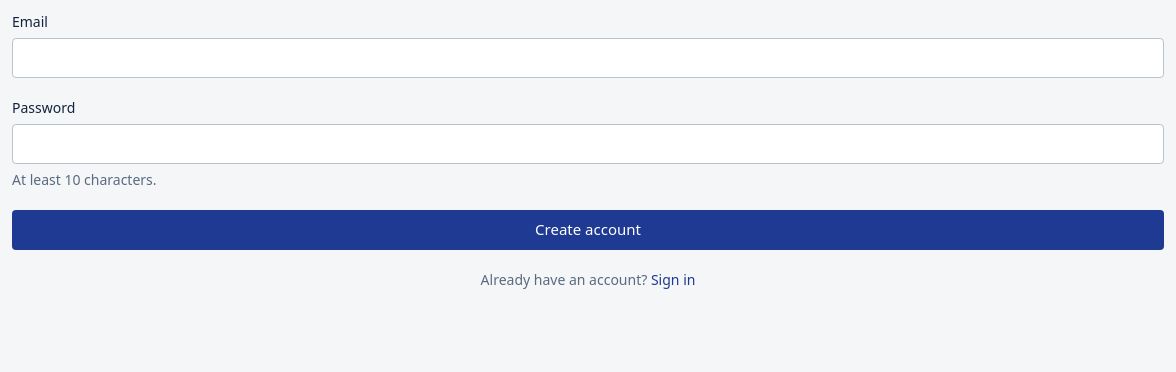
Scenario: AuthForm (register) › explains when the email is already registered
Type "ana@example.com" into the field labelled "Email" at [588, 58], box [12,38,1164,78]
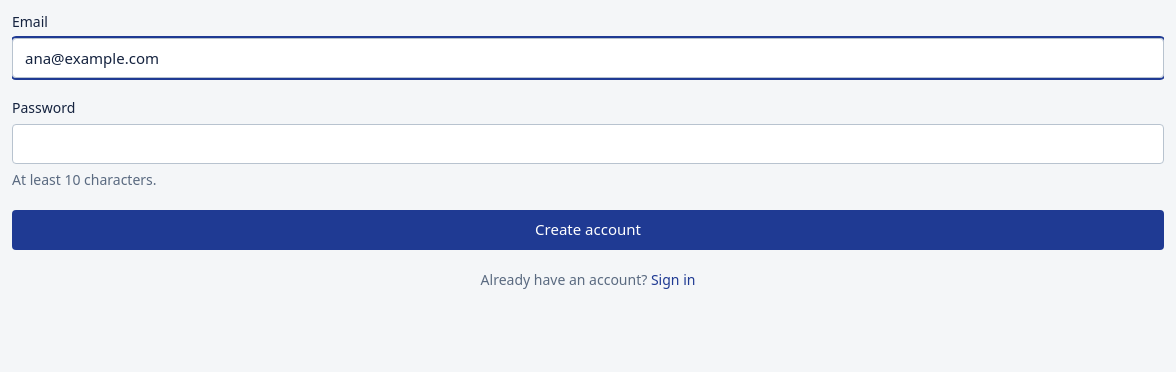
Type "correct horse battery" into the password field labelled "Password" at [588, 144], box [12,124,1164,164]
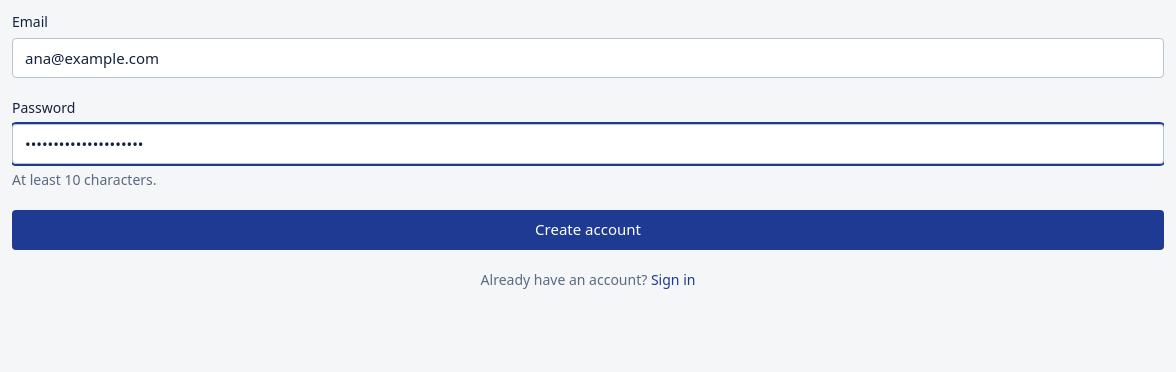
Click the button "Create account" at [588, 230], box [12,210,1164,250]
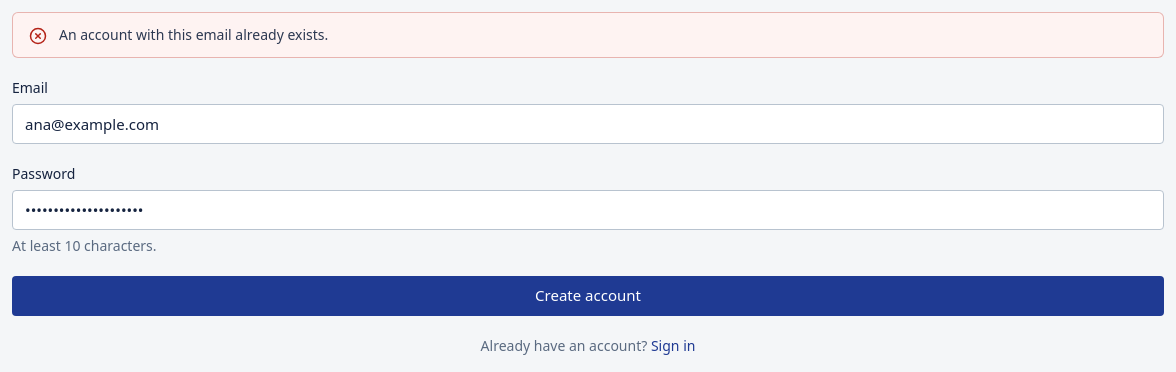
Expected: the message shows "already exists", [59,25,328,44]
